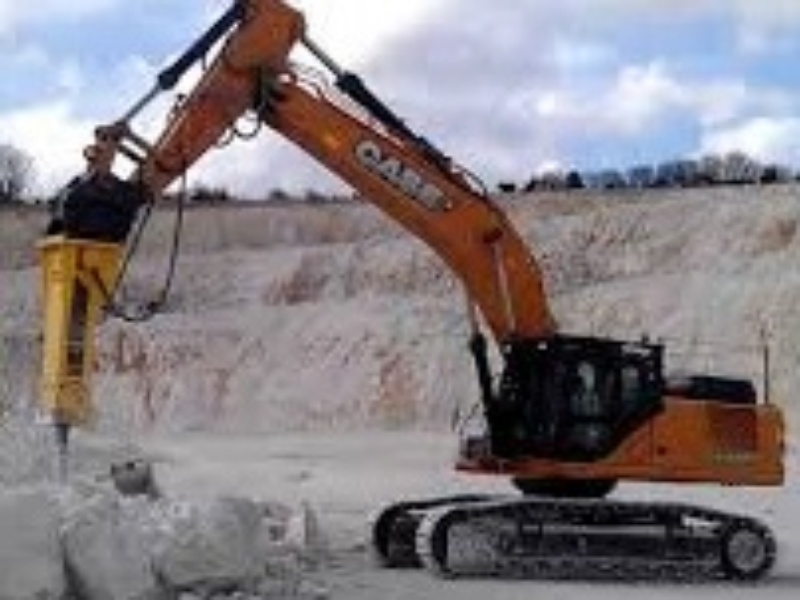wajueji: (355, 240, 794, 600)
